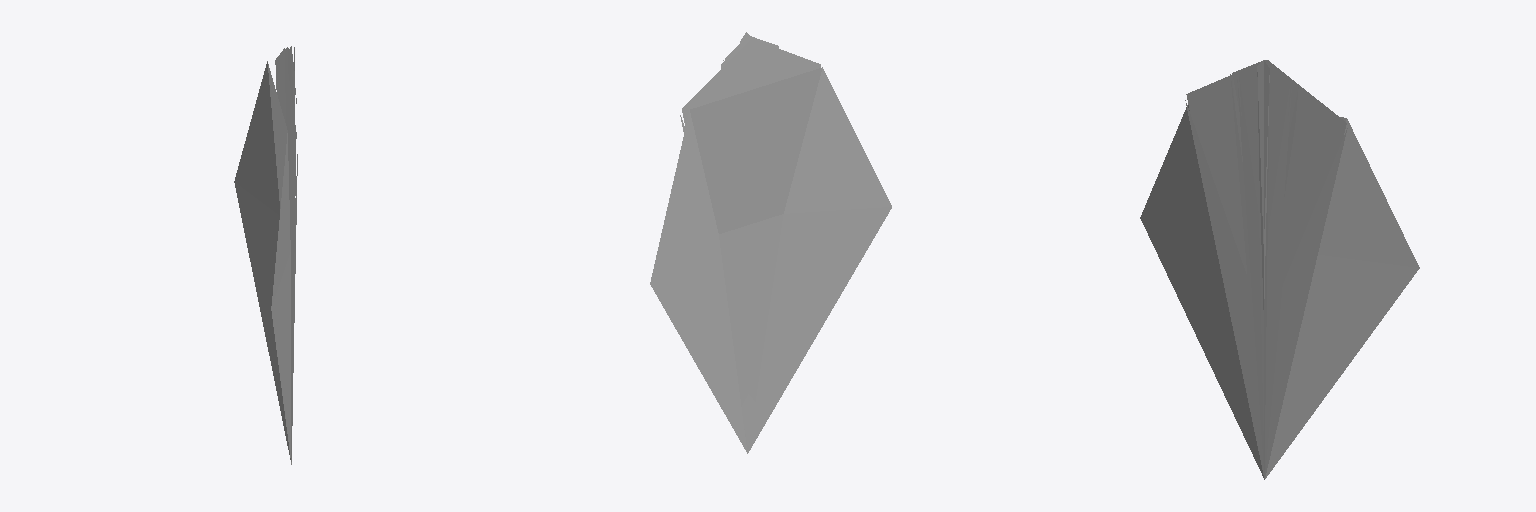
The model's file is stg300_MotLaser_c2_03.obj.
The picture shows the model from 3 angles: view 1: azimuth 30°, elevation 25°; view 2: azimuth 150°, elevation 25°; view 3: azimuth 270°, elevation 25°; orthographic projection.
Visible parts, largest first — view 1: polygon8, polygon2; view 2: polygon8, polygon2; view 3: polygon8, polygon2, polygon3, polygon4, polygon5, polygon1, polygon6, polygon7, polygon0.
Boxes of the visible parts, x1,y1,x2,y2 form: polygon8: [234, 61, 291, 464]; polygon2: [275, 48, 296, 424]; polygon8: [650, 67, 891, 453]; polygon2: [682, 39, 820, 445]; polygon8: [1140, 105, 1419, 479]; polygon2: [1186, 60, 1346, 282]; polygon3: [1185, 100, 1347, 476]; polygon4: [1239, 62, 1289, 303]; polygon5: [1237, 79, 1291, 467]; polygon1: [1230, 74, 1300, 470]; polygon6: [1257, 60, 1269, 309]; polygon7: [1256, 83, 1269, 478]; polygon0: [1232, 60, 1298, 196].
Bounding box in the file's own units: 199 × 731 × 440.